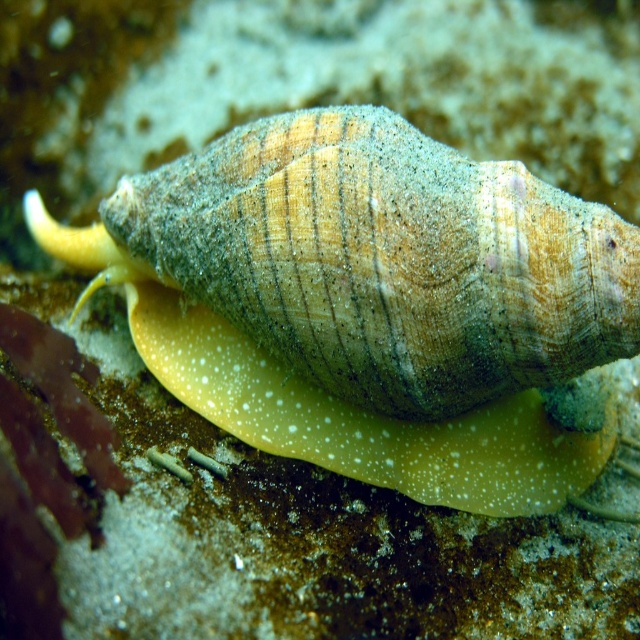Snail: (22, 103, 640, 523)
